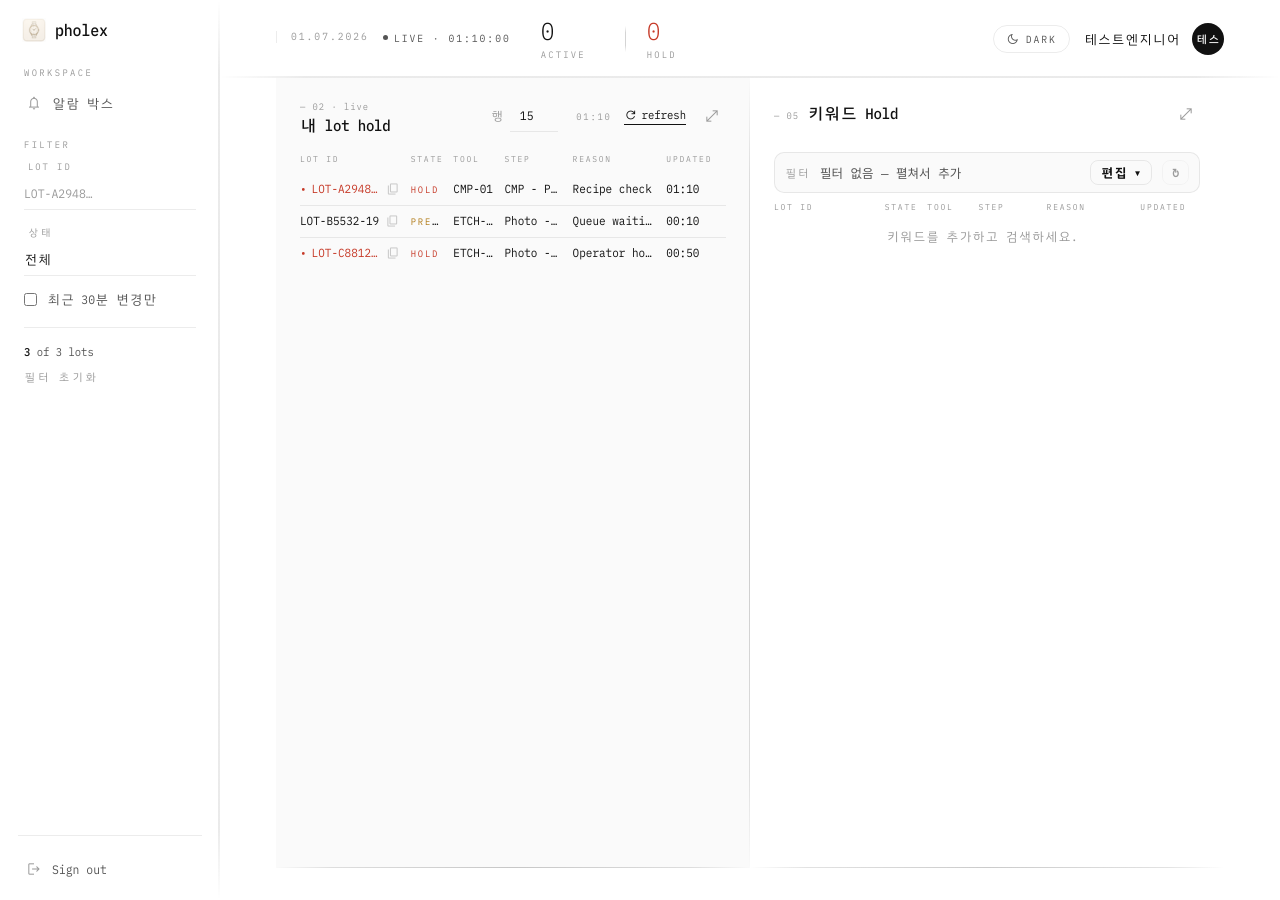
Test: App › filters visible lots from the sidebar controls
Expected: the text "LOT-A2948-01" is shown, [312, 181, 380, 198]
Expected: the text "LOT-B5532-19" is shown, [300, 213, 379, 230]
Select "PreActive" in the dropdown labelled "상태" at (110, 260), box [24, 244, 196, 276]
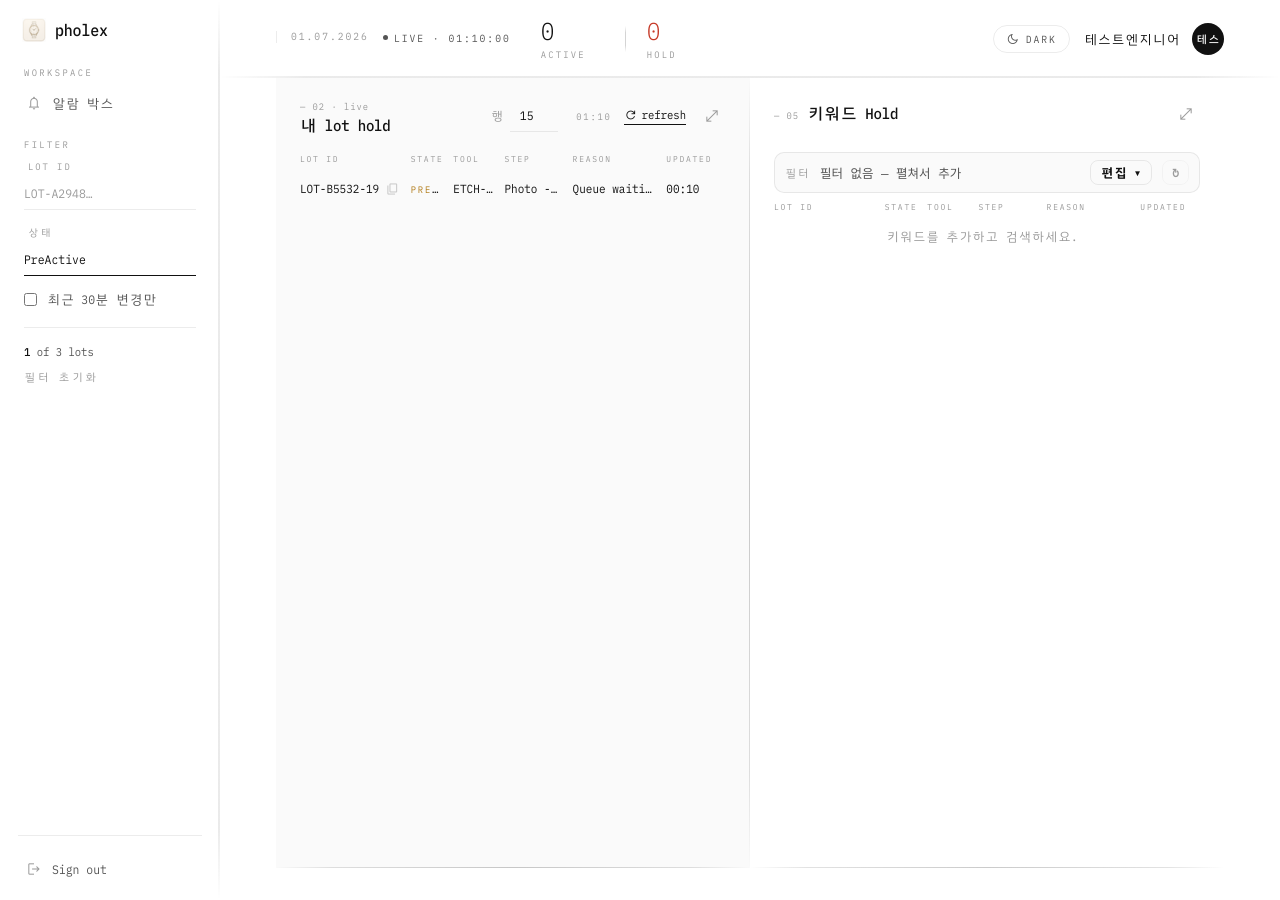
Expected: the text "LOT-B5532-19" is shown, [300, 181, 379, 198]
Now the text "LOT-A2948-01" is gone
Now the text "LOT-C8812-44" is gone
Select "전체" in the dropdown labelled "상태" at (110, 260), box [24, 244, 196, 276]
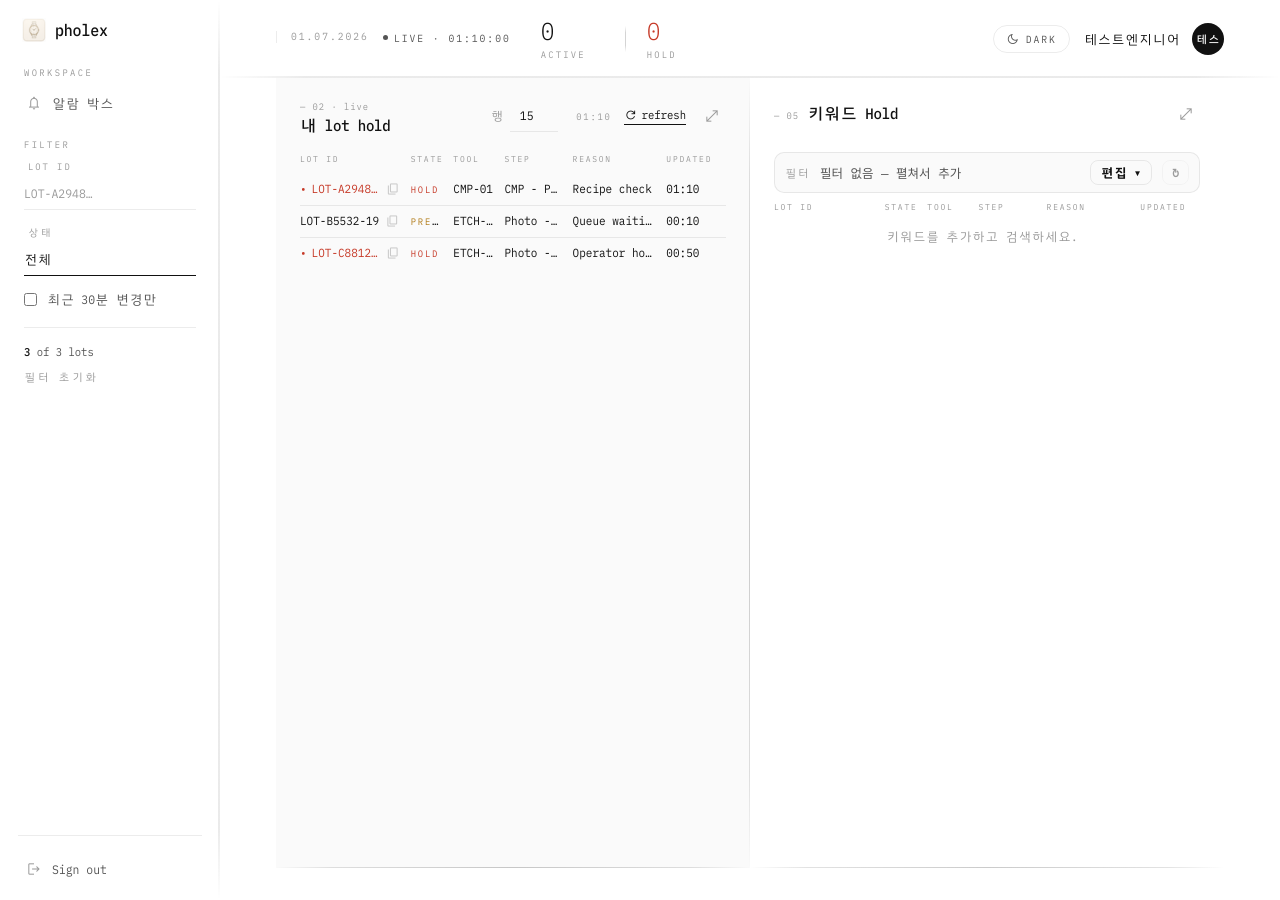
Click the checkbox labelled "최근 30분 변경만" at (30, 300), box [24, 293, 37, 306]
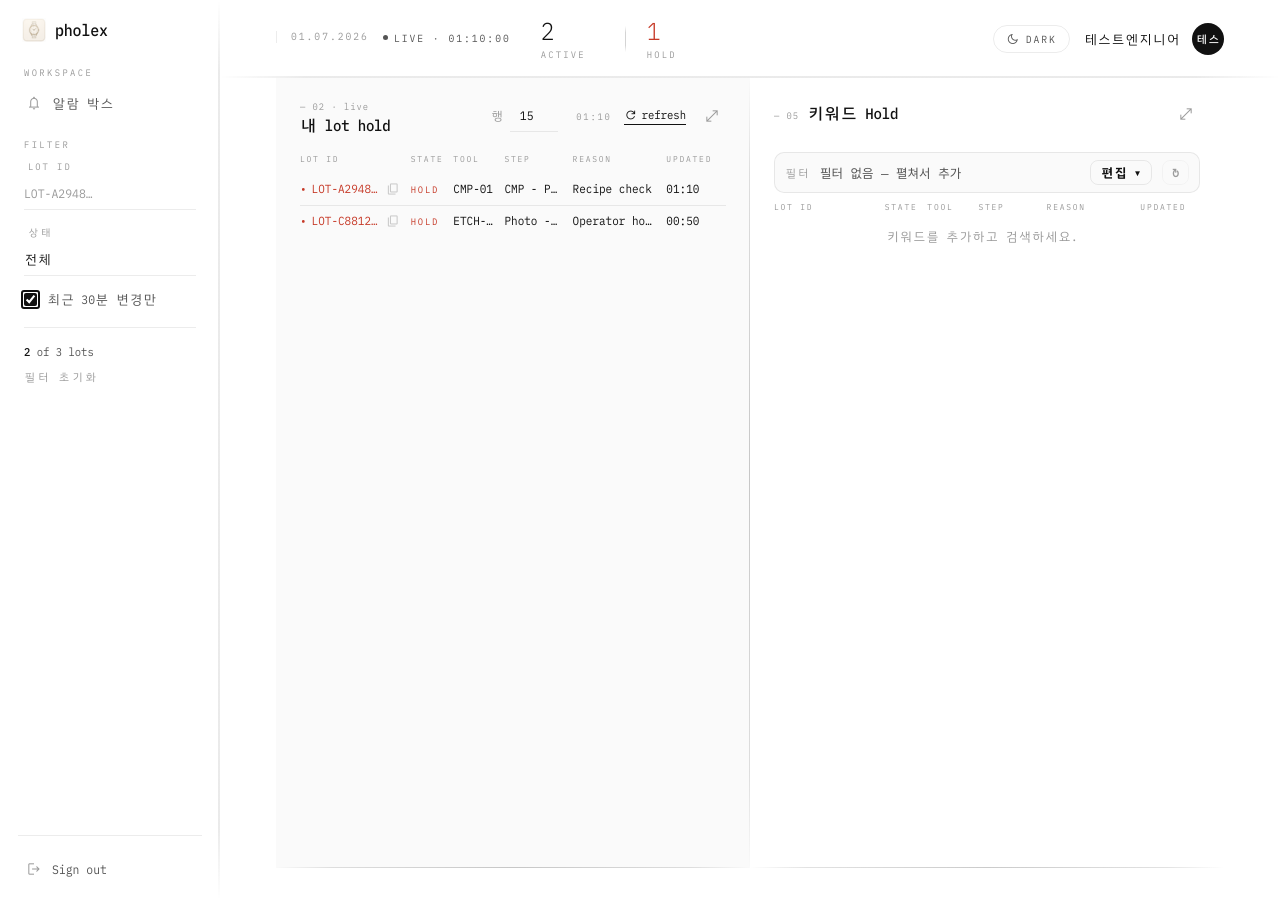
Now the text "LOT-A2948-01" is shown, box [312, 181, 380, 198]
Now the text "LOT-C8812-44" is shown, box [312, 213, 380, 230]
Now the text "LOT-B5532-19" is gone
Type "C8812" into the search field labelled "Lot ID" at (110, 194), box [24, 178, 196, 210]
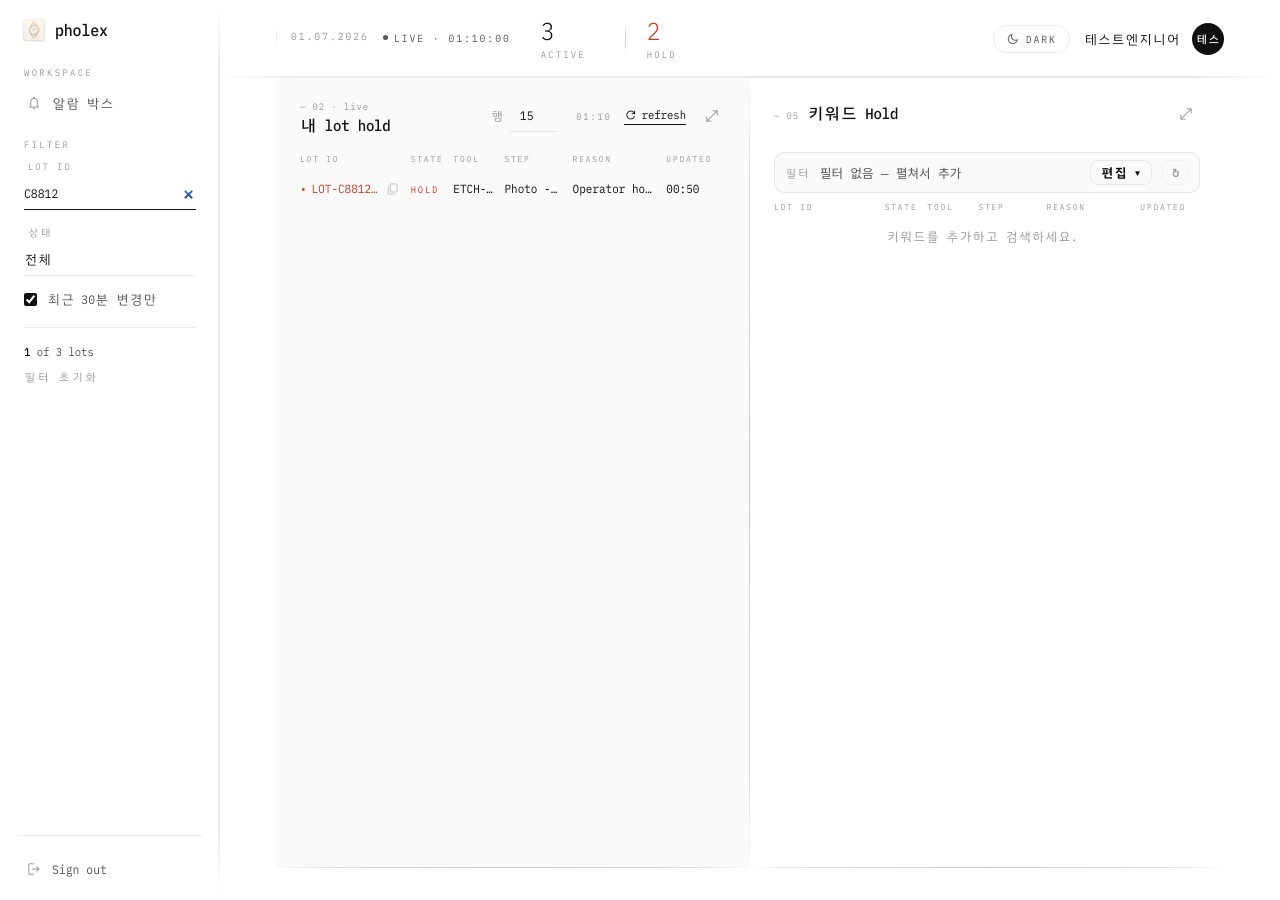
Now the text "LOT-C8812-44" is shown, box [312, 181, 380, 198]
Now the text "LOT-A2948-01" is gone
